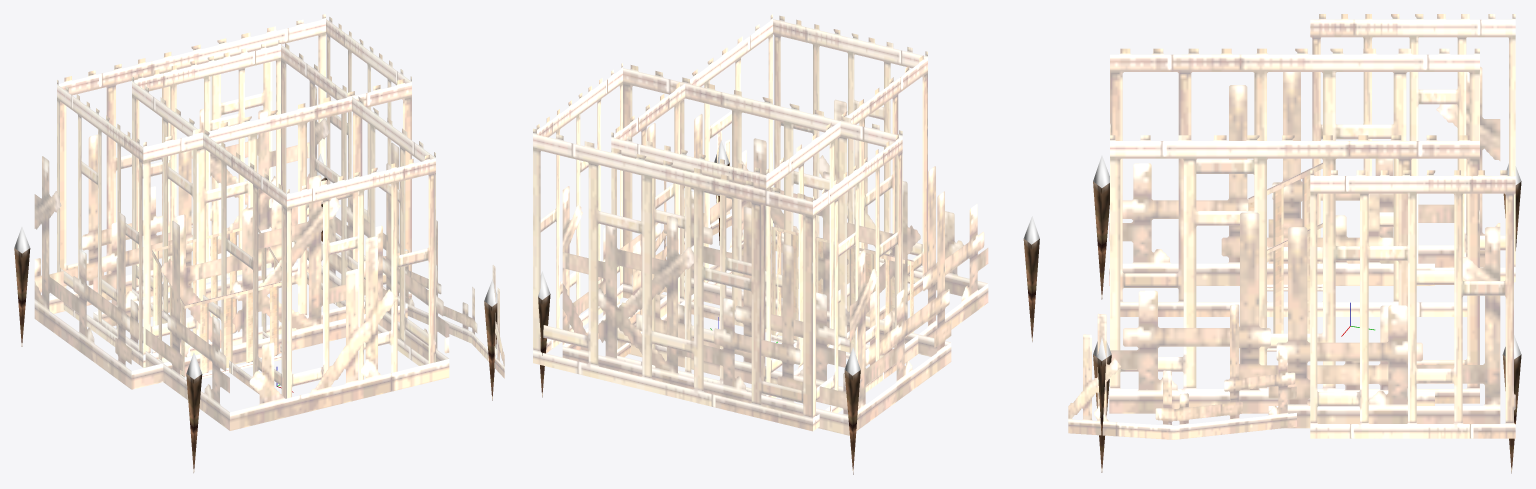
File: greek-house-construction-c.glb
3 views of the same model, side by side, from view 1: azimuth 30°, elevation 25°; view 2: azimuth 150°, elevation 25°; view 3: azimuth 270°, elevation 25° (orthographic). The views are drawn at different scales.
Parts seen in each view (by area): view 1: building g constructionhouseModel; view 2: building g constructionhouseModel; view 3: building g constructionhouseModel.
Part boxes in pixels (x1,y1,x2,y2): building g constructionhouseModel: [14, 14, 504, 472]; building g constructionhouseModel: [533, 14, 1039, 474]; building g constructionhouseModel: [1068, 14, 1521, 473].
Size of the model in its own units: 4.09 by 3.26 by 4.33.
Materials: 4 (2 with a texture image).
